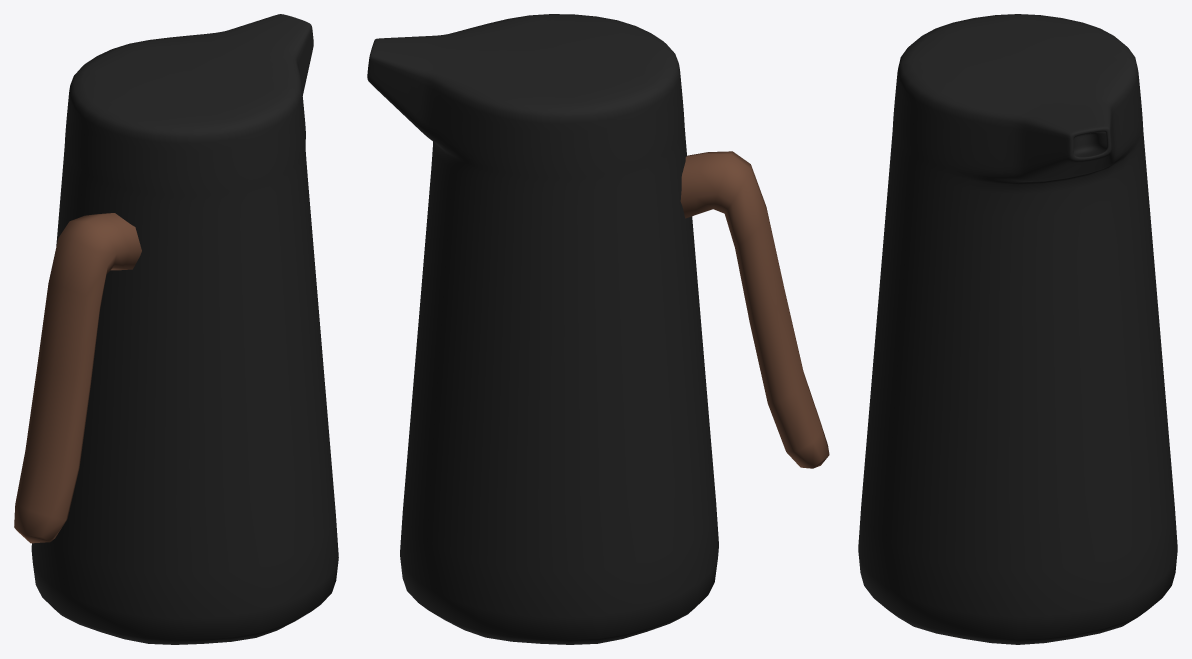
File: Kettle_2.fbx
The picture shows the model from 3 angles, left to right: view 1: azimuth 30°, elevation 25°; view 2: azimuth 150°, elevation 25°; view 3: azimuth 270°, elevation 25°; orthographic projection. The views are drawn at different scales.
Parts seen in each view (by area): view 1: Kettle_2; view 2: Kettle_2; view 3: Kettle_2.
Boxes of the visible parts, bbox=[...] form: Kettle_2: bbox=[14, 14, 338, 644]; Kettle_2: bbox=[367, 14, 829, 644]; Kettle_2: bbox=[858, 14, 1177, 644].
Bounding box in the file's own units: 32.38 × 43.31 × 23.64.
